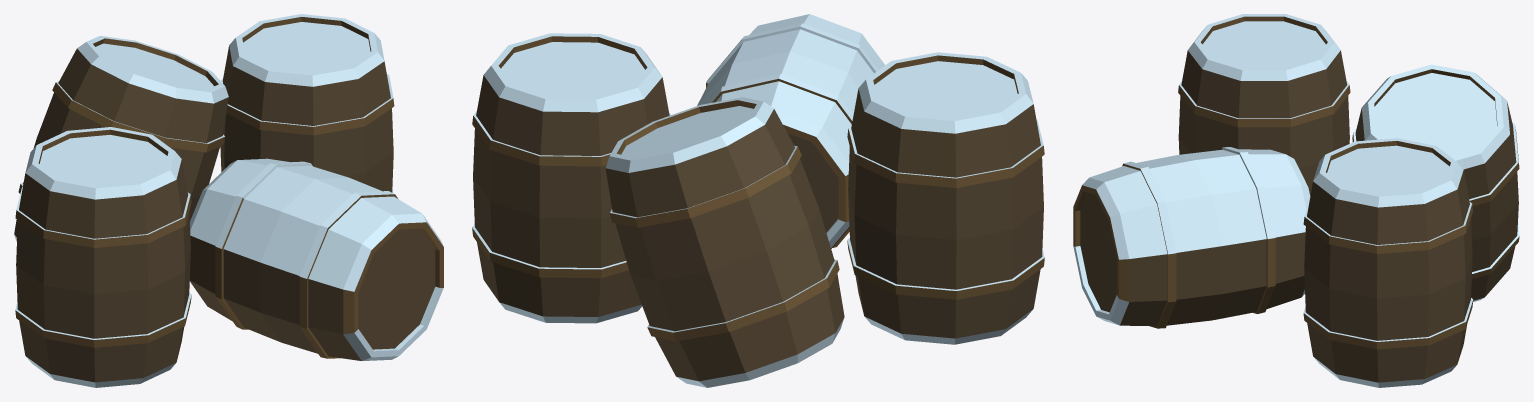
Rendered from model_polytope_snow_barrels.fbx.
3 views of the same model, side by side, from view 1: azimuth 30°, elevation 25°; view 2: azimuth 150°, elevation 25°; view 3: azimuth 270°, elevation 25° (orthographic). The views are drawn at different scales.
Parts seen in each view (by area): view 1: model_polytope_snow_barrels; view 2: model_polytope_snow_barrels; view 3: model_polytope_snow_barrels.
Part boxes in pixels (x1=…): model_polytope_snow_barrels: x1=14, y1=14, x2=443, y2=387; model_polytope_snow_barrels: x1=472, y1=14, x2=1044, y2=387; model_polytope_snow_barrels: x1=1073, y1=14, x2=1519, y2=387.
Size of the model in its own units: 283 by 151 by 272.
1 material, 1 textured.
